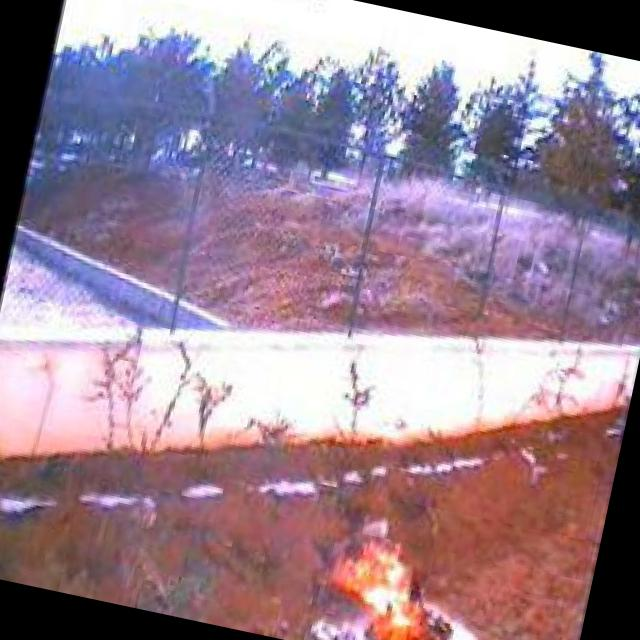Fire: (297, 505, 476, 640)
